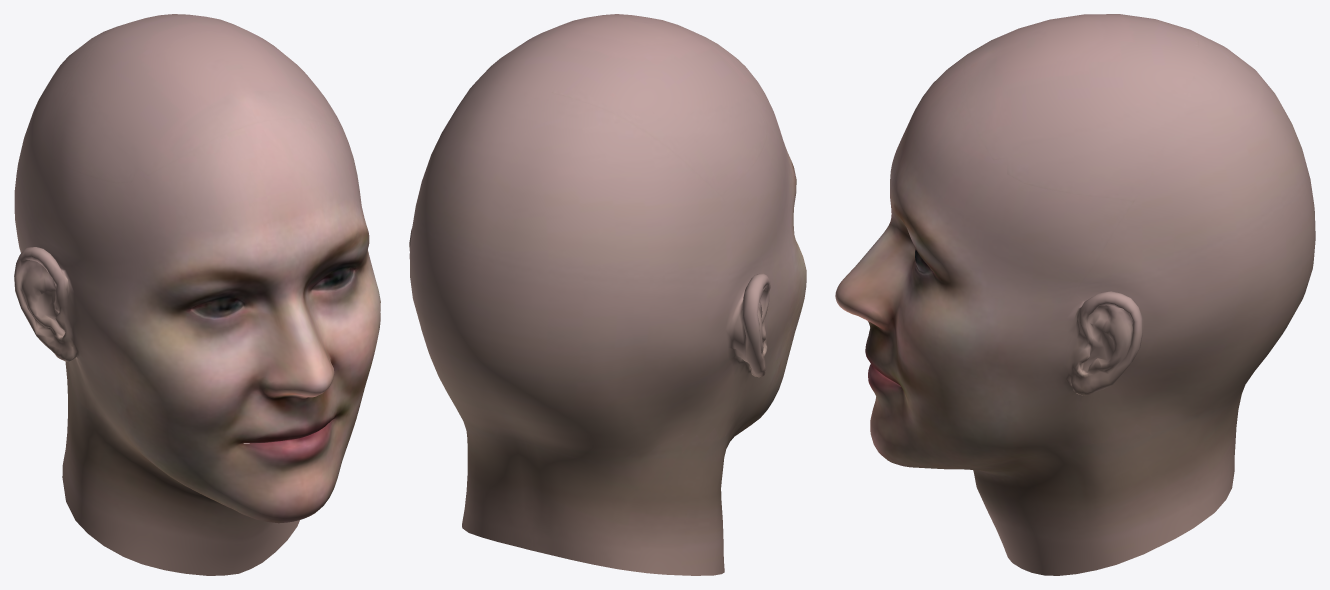
Rendered from Shane.fbx.
3 views of the same model, side by side, from view 1: azimuth 30°, elevation 25°; view 2: azimuth 150°, elevation 25°; view 3: azimuth 270°, elevation 25° (orthographic). The views are drawn at different scales.
Visible parts, largest first — view 1: HeadHires; view 2: HeadHires; view 3: HeadHires.
Part boxes in pixels (x1,y1,x2,y2): HeadHires: (14, 14, 380, 575); HeadHires: (409, 14, 806, 575); HeadHires: (835, 14, 1315, 575).
Bounding box in the file's own units: 189 × 283 × 236.
Materials: 1 (1 with a texture image).
